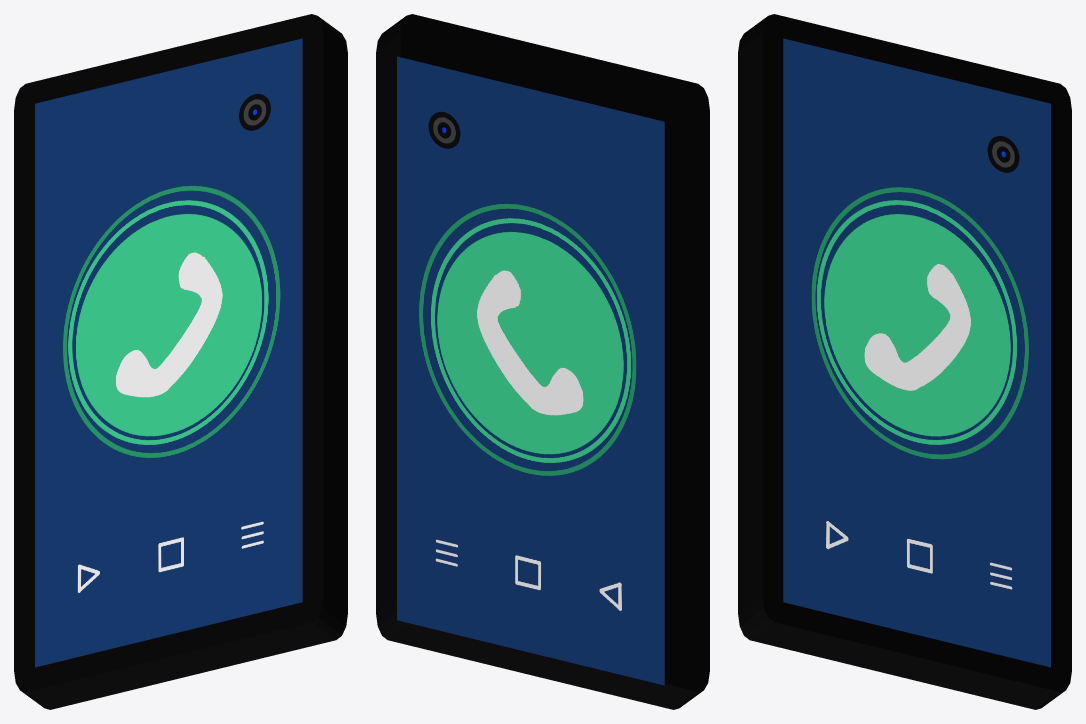
The model's file is phone.gltf.
3 renders of one model, left to right at view 1: azimuth 30°, elevation 25°; view 2: azimuth 150°, elevation 25°; view 3: azimuth 330°, elevation 25°, orthographic.
Visible parts, largest first — view 1: Phone; view 2: Phone; view 3: Phone.
Part boxes in pixels (x1,y1,x2,y2): Phone: (14,14,347,709); Phone: (376,14,709,709); Phone: (738,14,1071,709).
Size of the model in its own units: 0.4193 by 0.7884 by 0.0577.
Materials: 2 (1 with a texture image).
